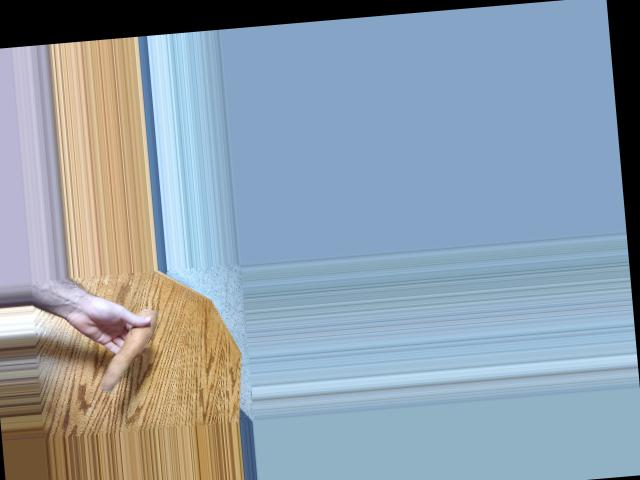sweet_potato: (92, 309, 159, 392)
